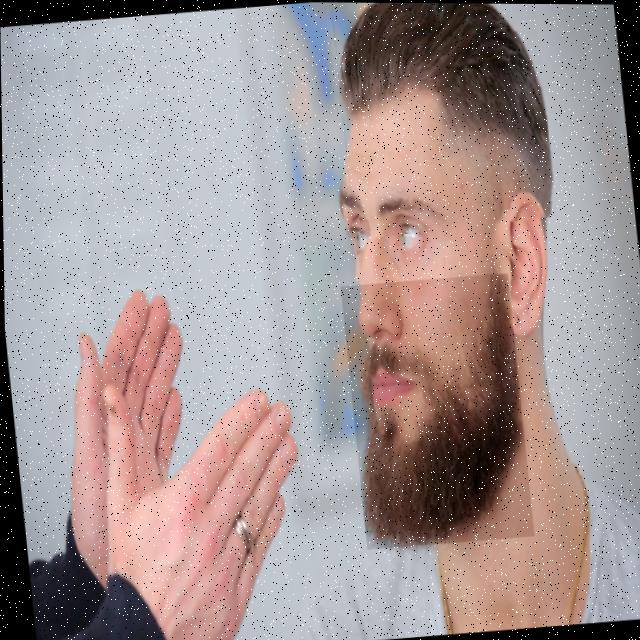beard: (360, 273, 519, 545)
hair: (338, 2, 550, 215)
